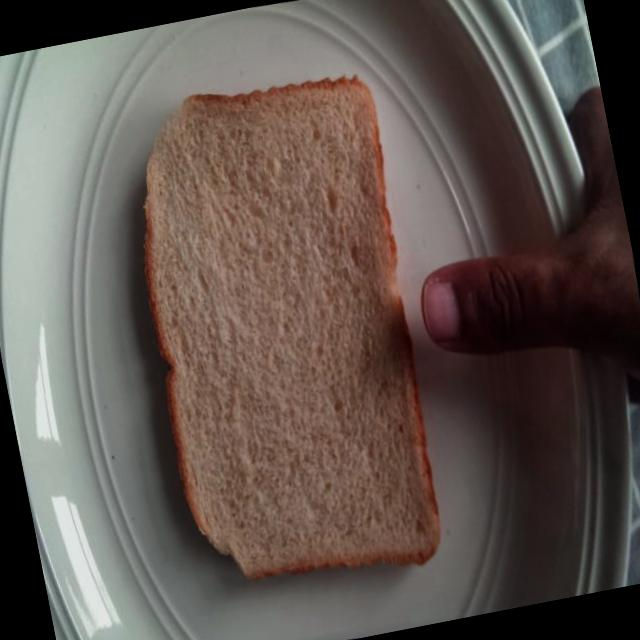Bread: (96, 46, 476, 614)
Finger: (405, 237, 544, 377)
